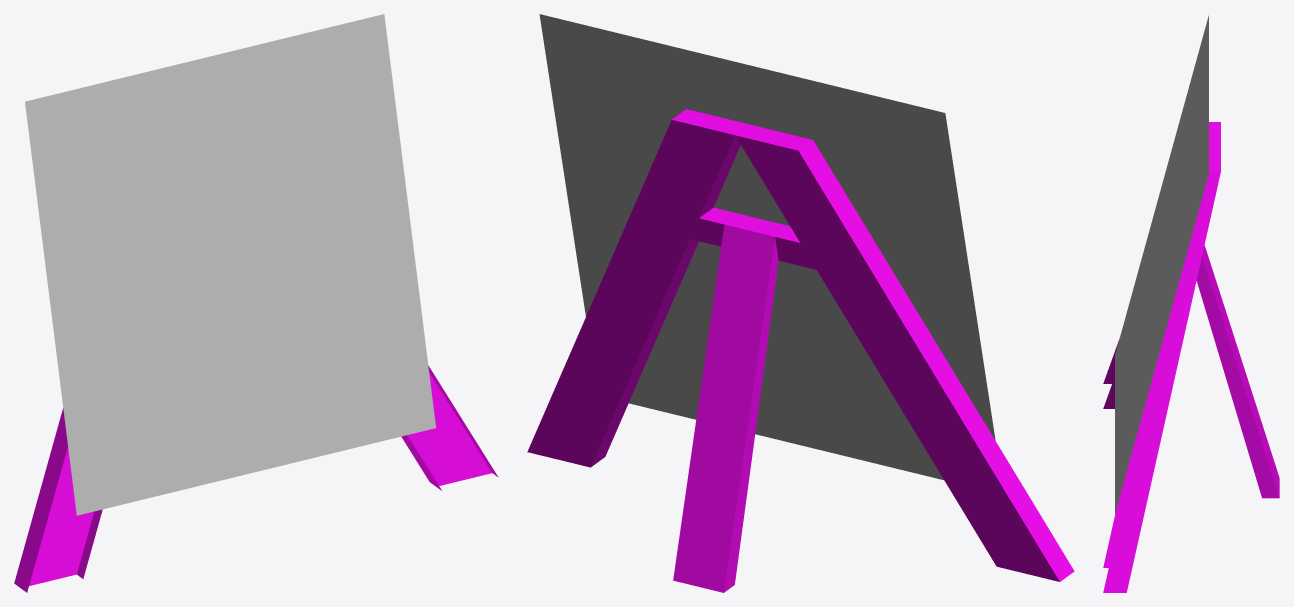
File: target.obj
3 renders of one model, left to right at view 1: azimuth 30°, elevation 25°; view 2: azimuth 150°, elevation 25°; view 3: azimuth 270°, elevation 25°, orthographic. The views are drawn at different scales.
Visible parts, largest first — view 1: target_back; view 2: target_back; view 3: target_back.
Part boxes in pixels (<box>): target_back: <box>14,14,498,592</box>; target_back: <box>527,14,1074,592</box>; target_back: <box>1103,15,1279,592</box>.
Size of the model in its own units: 1.68 by 1.48 by 0.6.
